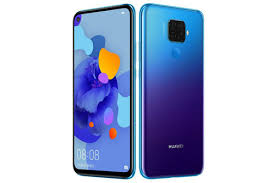huawei: (140, 1, 206, 178), (71, 2, 135, 177)
